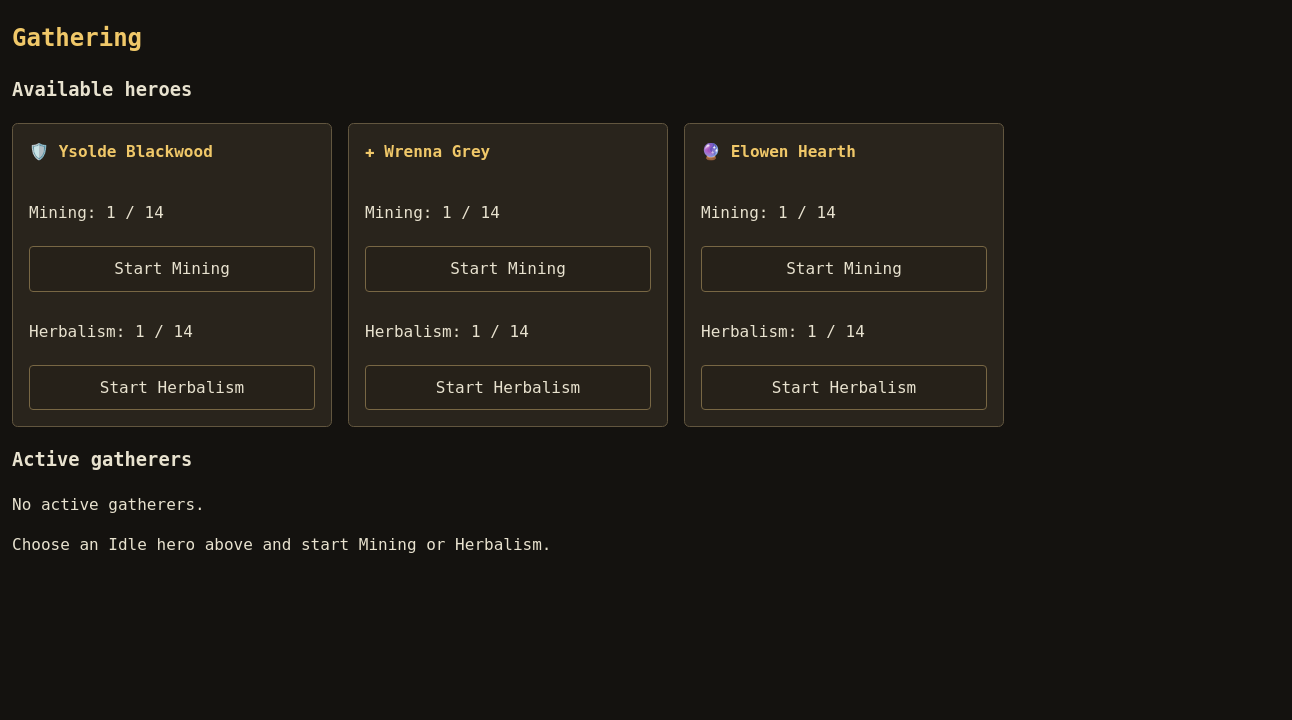
Test case: GatherBoard › starts and recalls a gatherer while showing skills and yields
The image size is (1292, 720).
Expected: the text "Mining: 1 / 14" is shown 3 times, [29,203,164,222]; [365,203,500,222]; [701,203,836,222]
Expected: the text "Herbalism: 1 / 14" is shown 3 times, [29,322,193,341]; [365,322,529,341]; [701,322,865,341]
Click the button "Start Mining" below "Ysolde Blackwood" at (172, 269), box [29,246,315,292]
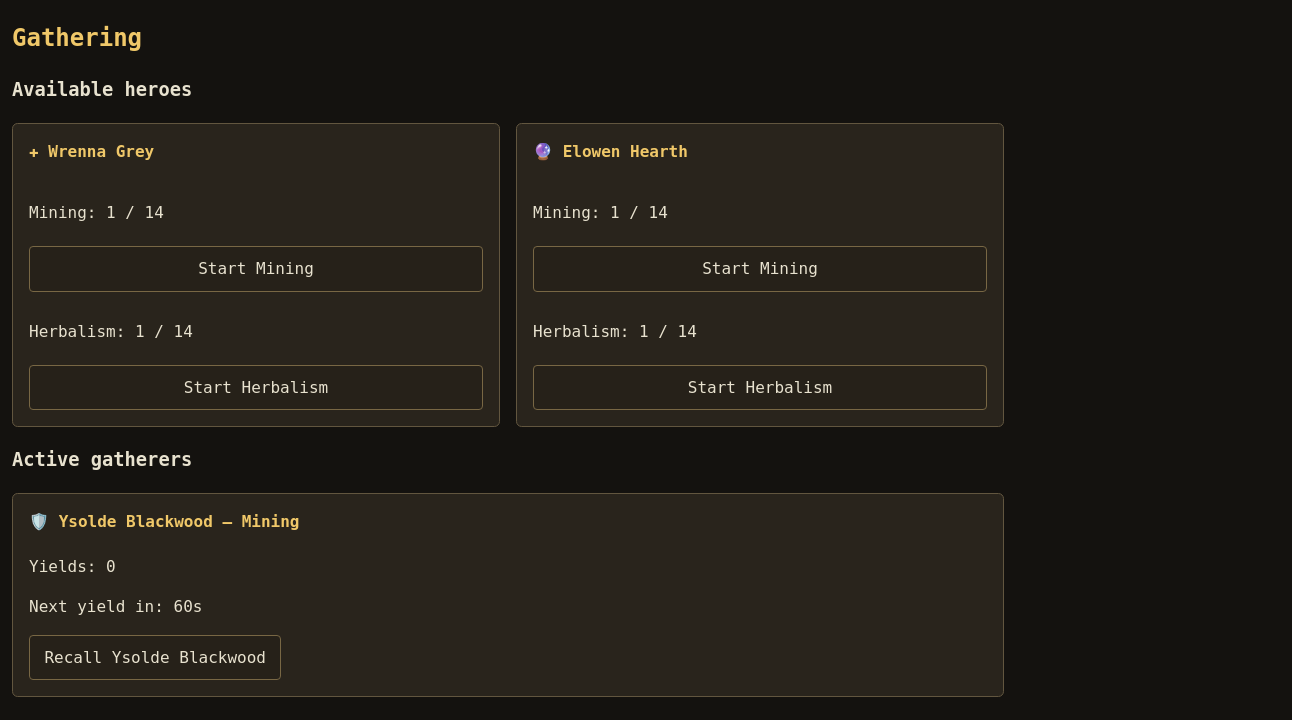
Expected: the text "Yields: 0" is shown, [29,557,116,576]
Click the button "Recall Ysolde Blackwood" at (155, 658), box [29,635,281,680]
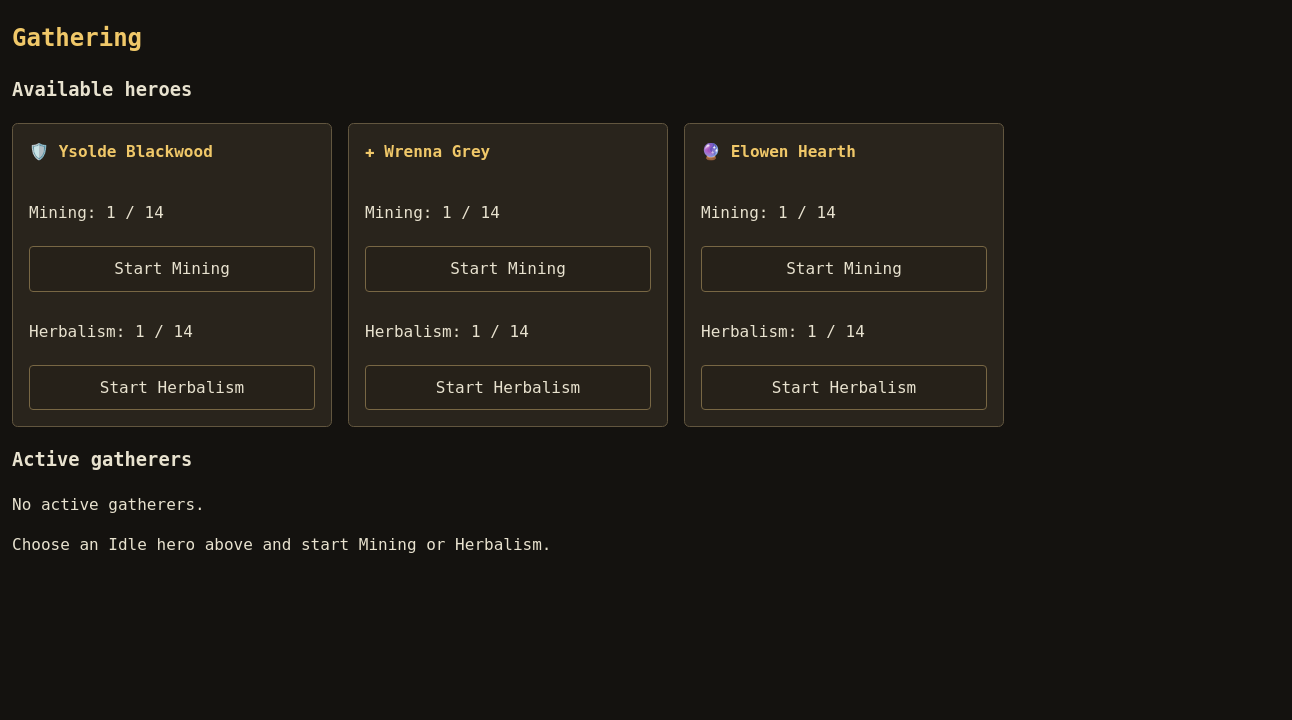
Expected: the text "No active gatherers." is shown, [12,495,205,514]
